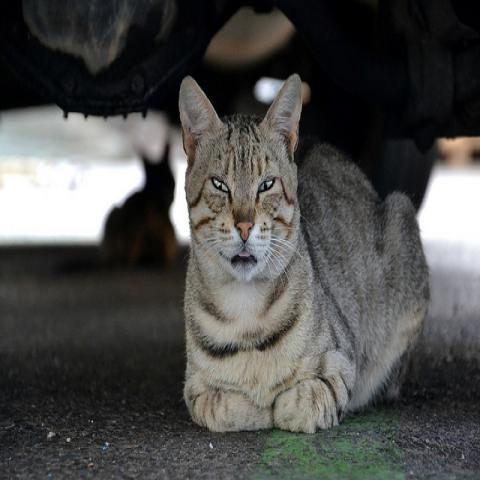car: (0, 0, 479, 217)
